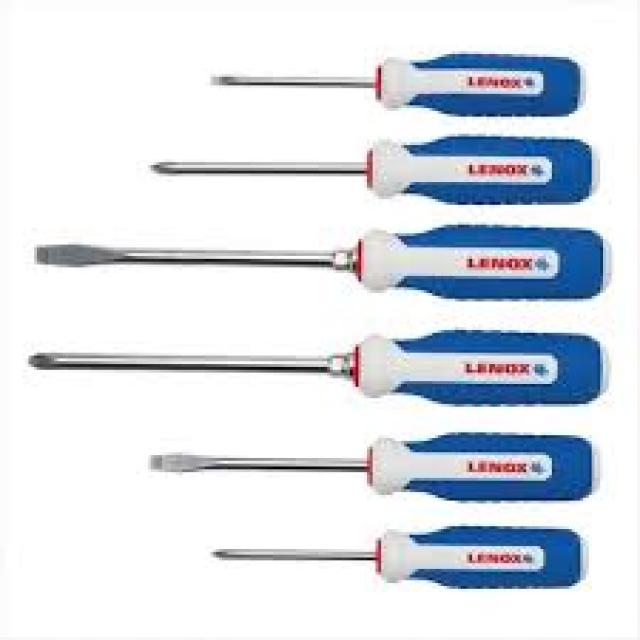screw driver: (9, 217, 623, 317), (12, 321, 617, 411), (131, 120, 601, 223), (122, 415, 600, 513), (192, 515, 593, 606), (183, 39, 584, 127)
